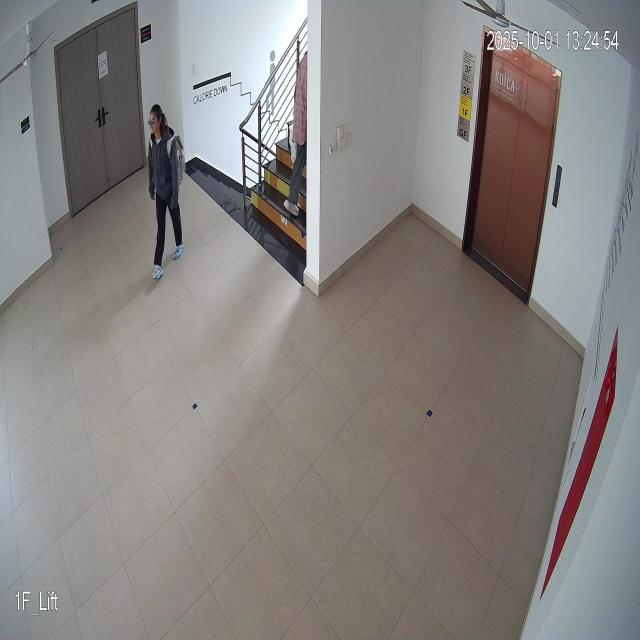face: (146, 101, 164, 141)
